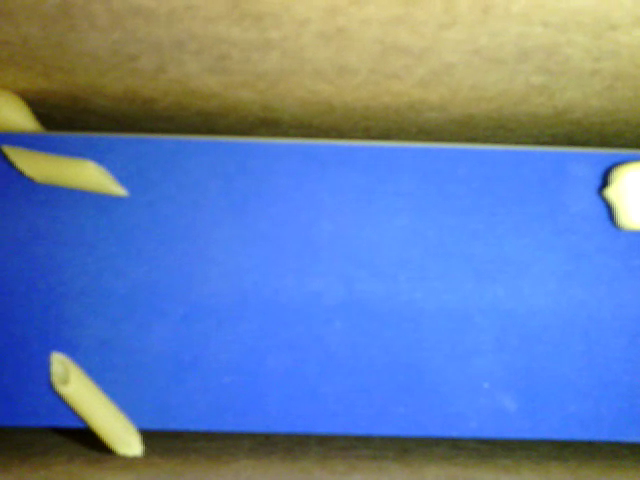penne: (50, 349, 144, 458), (1, 145, 129, 195)
tortellini: (600, 161, 639, 232)
